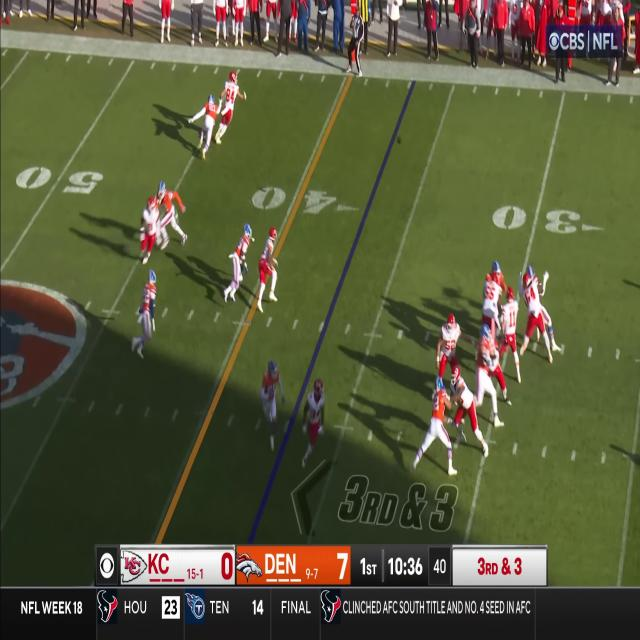Player: (222, 222, 254, 304), (426, 376, 452, 473), (450, 364, 478, 450), (298, 380, 325, 469), (260, 358, 284, 452), (256, 226, 281, 313), (434, 314, 464, 380), (136, 271, 158, 358), (521, 274, 542, 357), (502, 287, 519, 383), (217, 71, 239, 145), (138, 198, 158, 266), (484, 270, 504, 336), (199, 92, 218, 161), (476, 324, 492, 402), (159, 181, 175, 252)
Referee: (347, 6, 364, 78)
